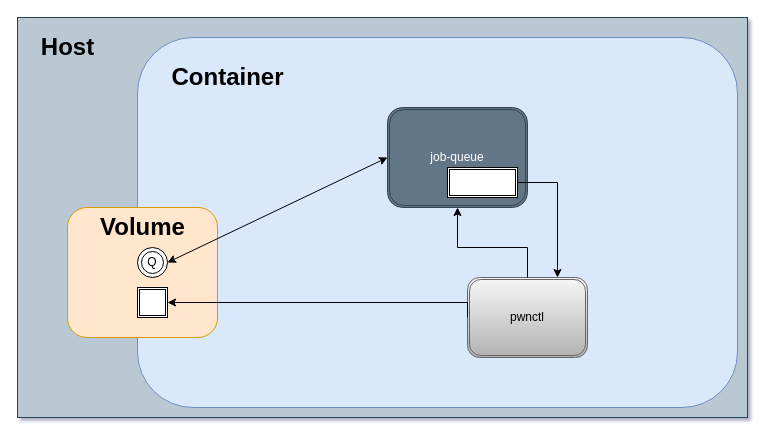
Some shapes in this 771 by 441 pixel diagram are drawn without their labels. The shapes that lost their labels are listed below. From the top down, each one's centre as x and y in pixels, then its label:
the point at 482,182: Jobs
the point at 152,302: DB
